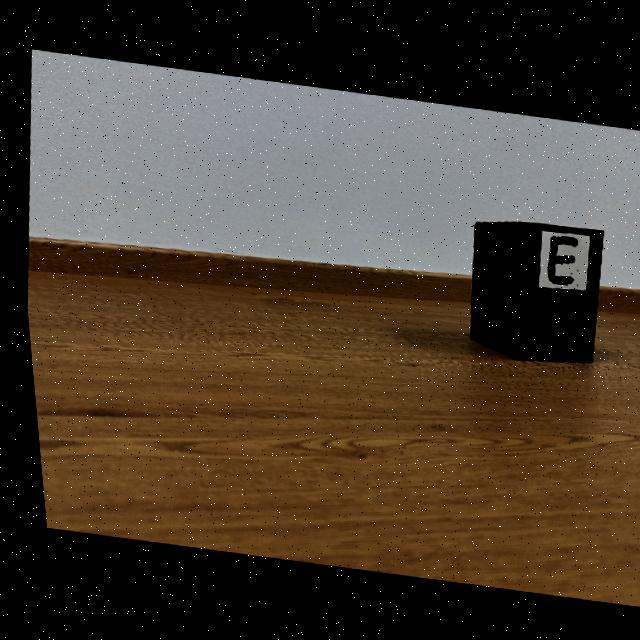E: (543, 233, 574, 281)
